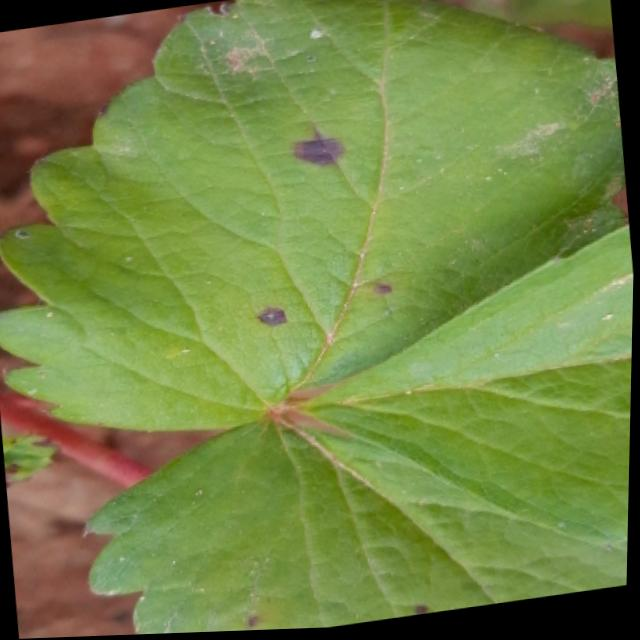Leaf Spot: (0, 0, 627, 435), (80, 413, 630, 636), (3, 433, 63, 488)
